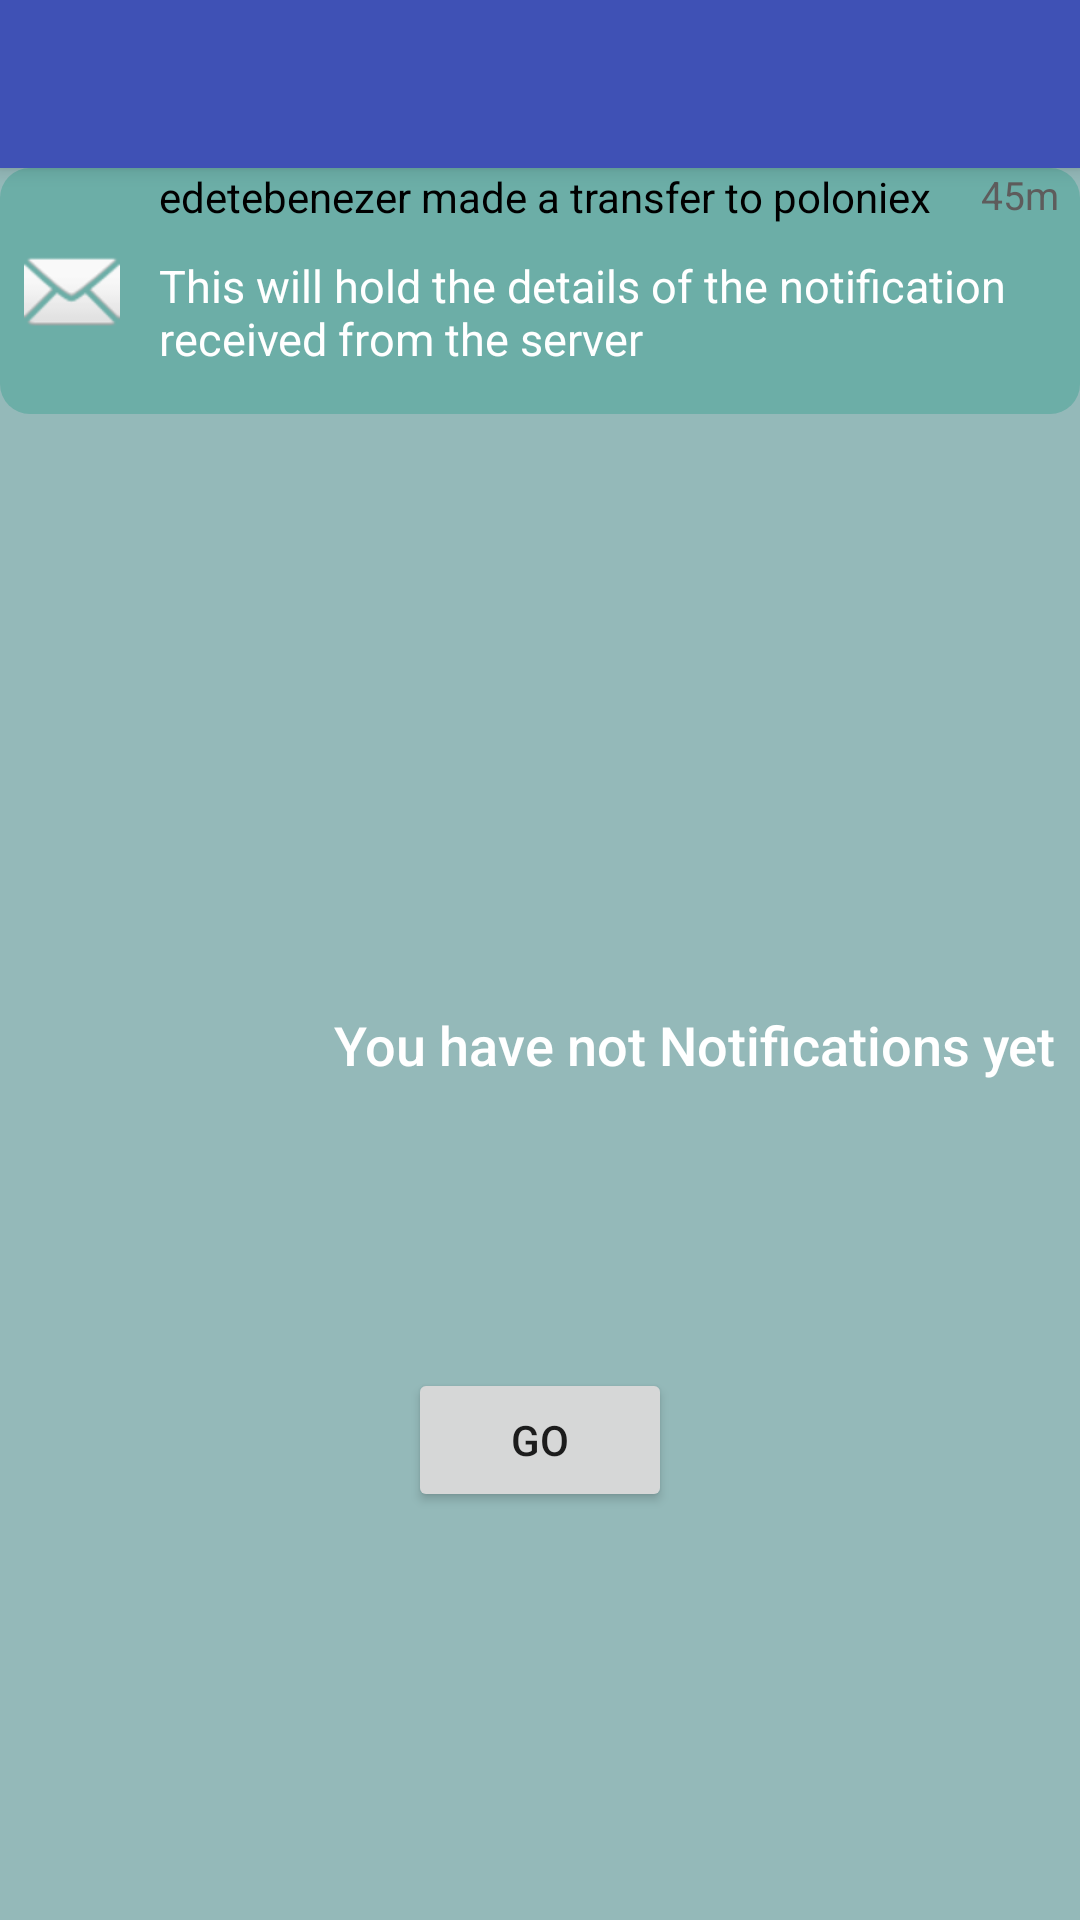

Screen size 1080px x 1920px. Icon name, then its center in pixels as (x=x, y=y):
email: (x=72, y=291)
